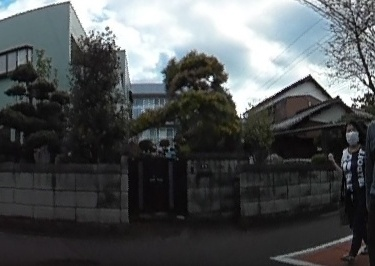person: (338, 120, 374, 258)
